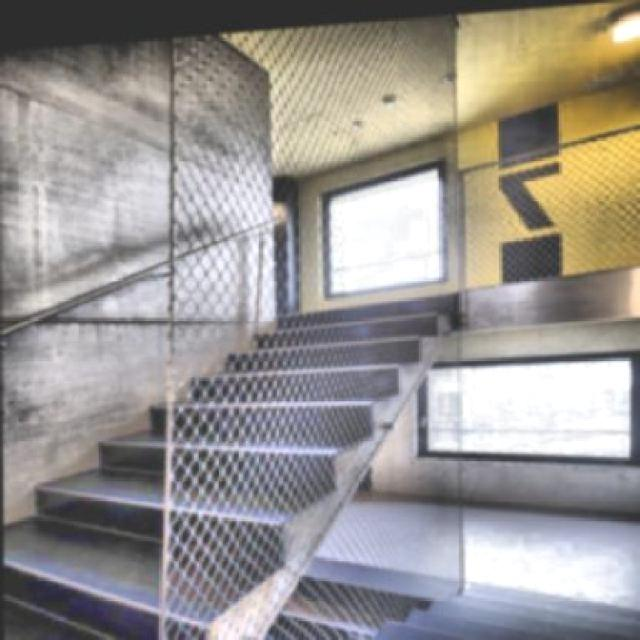stair: (1, 284, 457, 638)
